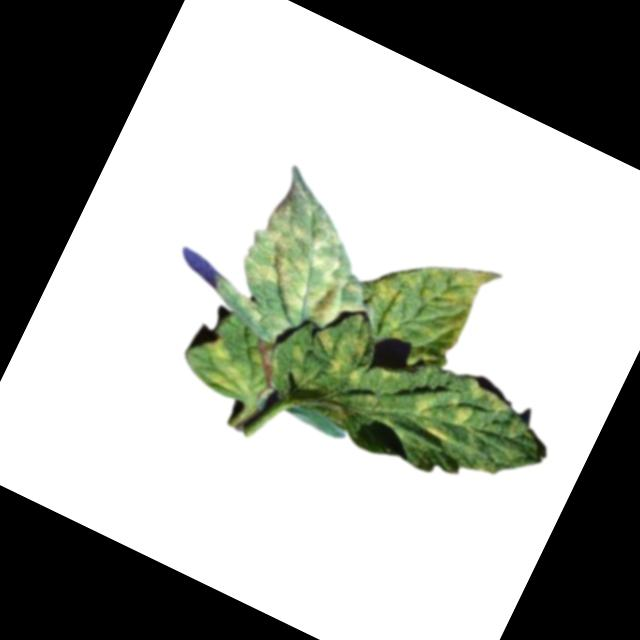Leaf_Mold: (215, 171, 400, 370), (351, 226, 503, 382), (401, 378, 475, 451), (304, 319, 377, 386), (189, 333, 261, 398), (458, 371, 515, 417)
